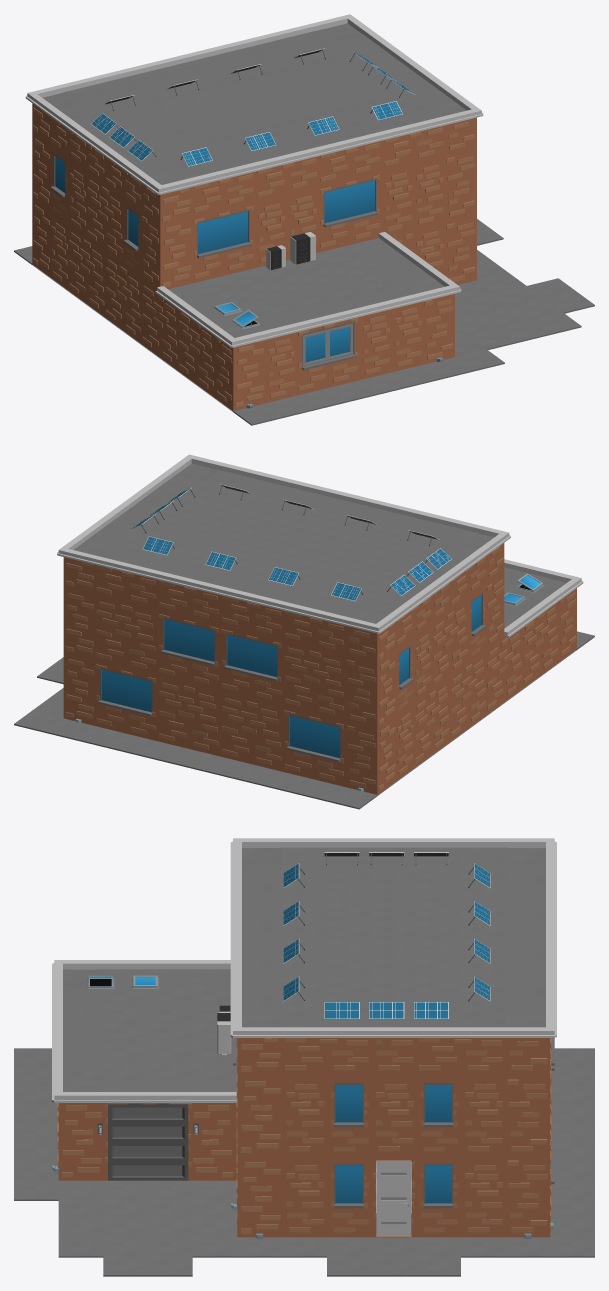
File: House.fbx
The picture shows the model from 3 angles, top to bottom: view 1: azimuth 30°, elevation 25°; view 2: azimuth 150°, elevation 25°; view 3: azimuth 270°, elevation 25°; orthographic projection. The views are drawn at different scales.
Parts seen in each view (by area): view 1: Ext-BrickV3Corner.008, Ext-BrickV3Corner.001, Ext-BrickV3.011, Ext-BrickV3.010, Ext-BrickV3.008, Ext-BrickV3Windowframe.004, Ext-BrickV3.019, Ext-BrickV3Windowframe.007, Ext-BrickV3.012, Ext-BrickV3Windowframe.003, Ext-BrickV3Small.007, Ext-BrickV3Corner.007 (+115 smaller); view 2: Ext-BrickV3.003, Ext-BrickV3.007, Ext-BrickV3.015, Ext-BrickV3.017, Ext-BrickV3Corner.005, Ext-BrickV3Corner.002, Ext-BrickV3.010, Ext-BrickV3.011, Ext-BrickV3Windowframe.001, Ext-BrickV3Windowframe.002, Ext-BrickV3.008, Ext-BrickV3.019 (+91 smaller); view 3: GarageDoor01.001, Ext-BrickV3Corner.006, Ext-BrickV3Corner.007, Ext-BrickV3Small.003, Ext-BrickV3Corner.003, Ext-BrickV3Corner.004, Ext-BrickV3Small.002, Ext-BrickV3Small.004, Ext-BrickV3Small.009, Ext-BrickV3Small.001, Ext-BrickV3Corner.009, Ext-BrickV3Corner-Inv.002 (+144 smaller).
Part boxes in pixels (x1,y1,x2,y2): Ext-BrickV3Corner.008: (142, 212, 191, 289); Ext-BrickV3Corner.001: (215, 336, 264, 410); Ext-BrickV3.011: (105, 251, 141, 344); Ext-BrickV3.010: (69, 225, 105, 317); Ext-BrickV3.008: (87, 172, 123, 264); Ext-BrickV3Windowframe.004: (318, 171, 381, 252); Ext-BrickV3.019: (142, 278, 178, 370); Ext-BrickV3Windowframe.007: (192, 202, 255, 283); Ext-BrickV3.012: (178, 310, 214, 397); Ext-BrickV3Windowframe.003: (296, 317, 359, 395); Ext-BrickV3Small.007: (413, 156, 445, 229); Ext-BrickV3Corner.007: (445, 148, 476, 221); Ext-BrickV3.003: (157, 676, 220, 756); Ext-BrickV3.007: (220, 691, 283, 771); Ext-BrickV3.015: (95, 595, 157, 675); Ext-BrickV3.017: (283, 641, 345, 721); Ext-BrickV3Corner.005: (346, 651, 395, 729); Ext-BrickV3Corner.002: (346, 716, 395, 794); Ext-BrickV3.010: (413, 677, 449, 768); Ext-BrickV3.011: (450, 650, 486, 741); Ext-BrickV3Windowframe.001: (220, 625, 283, 706); Ext-BrickV3Windowframe.002: (157, 610, 220, 691); Ext-BrickV3.008: (432, 598, 467, 689); Ext-BrickV3.019: (486, 628, 522, 715); GarageDoor01.001: (108, 1104, 188, 1180); Ext-BrickV3Corner.006: (505, 1070, 550, 1156); Ext-BrickV3Corner.007: (236, 1063, 281, 1156); Ext-BrickV3Small.003: (371, 1075, 416, 1156); Ext-BrickV3Corner.003: (505, 1151, 550, 1237); Ext-BrickV3Corner.004: (236, 1144, 281, 1237); Ext-BrickV3Small.002: (282, 1156, 326, 1237); Ext-BrickV3Small.004: (282, 1075, 326, 1156); Ext-BrickV3Small.009: (461, 1156, 505, 1237); Ext-BrickV3Small.001: (461, 1075, 505, 1156); Ext-BrickV3Corner.009: (57, 1103, 103, 1180); Ext-BrickV3Corner-Inv.002: (192, 1103, 237, 1180).
Bounding box in the file's own units: 1215 × 530 × 1300.
